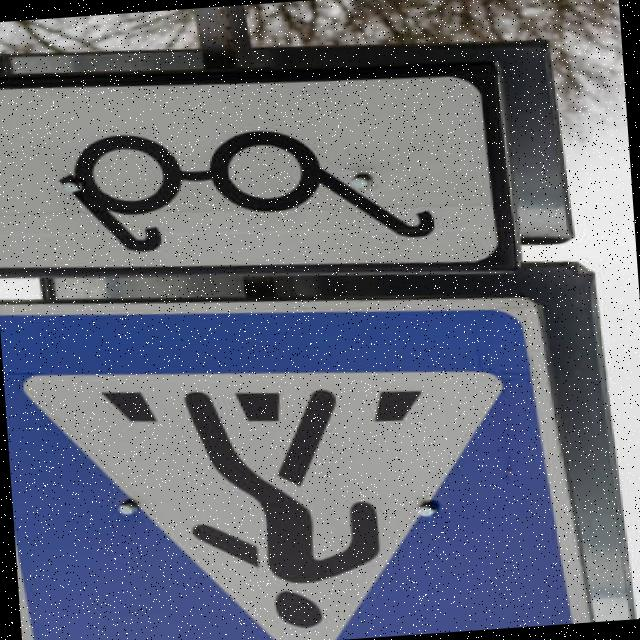crosswalk: (0, 257, 599, 640)
